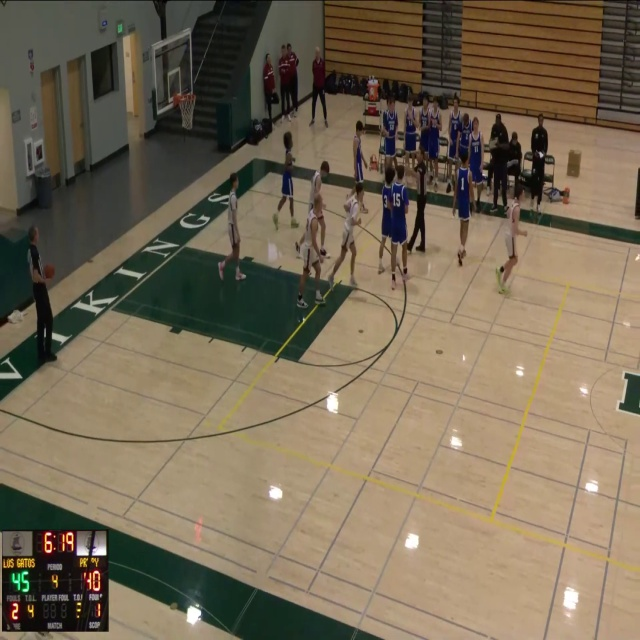Basketball: (43, 264, 55, 279)
